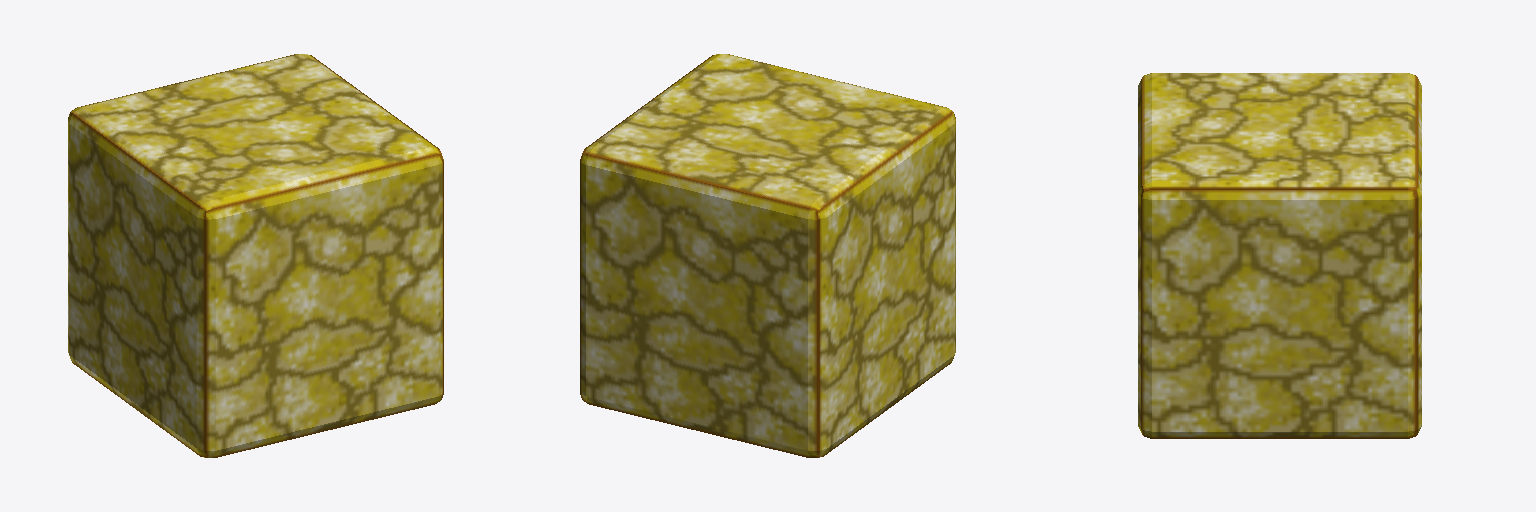
3 views of the same model, side by side, from view 1: azimuth 30°, elevation 25°; view 2: azimuth 150°, elevation 25°; view 3: azimuth 270°, elevation 25° (orthographic).
Parts seen in each view (by area): view 1: 立方体; view 2: 立方体; view 3: 立方体.
Boxes of the visible parts, x1,y1,x2,y2 form: 立方体: [68, 54, 443, 457]; 立方体: [580, 54, 955, 457]; 立方体: [1138, 73, 1421, 438].
Bounding box in the file's own units: 2 × 2 × 2.
1 materials, 1 textured.